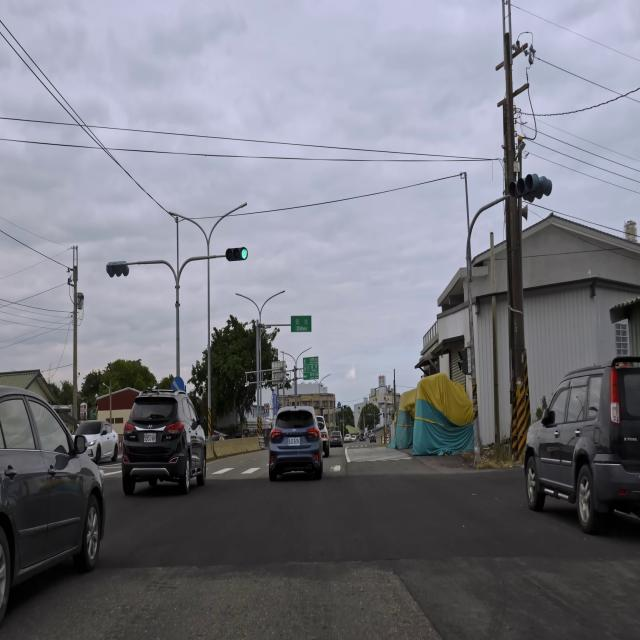green light: (225, 245, 248, 262)
